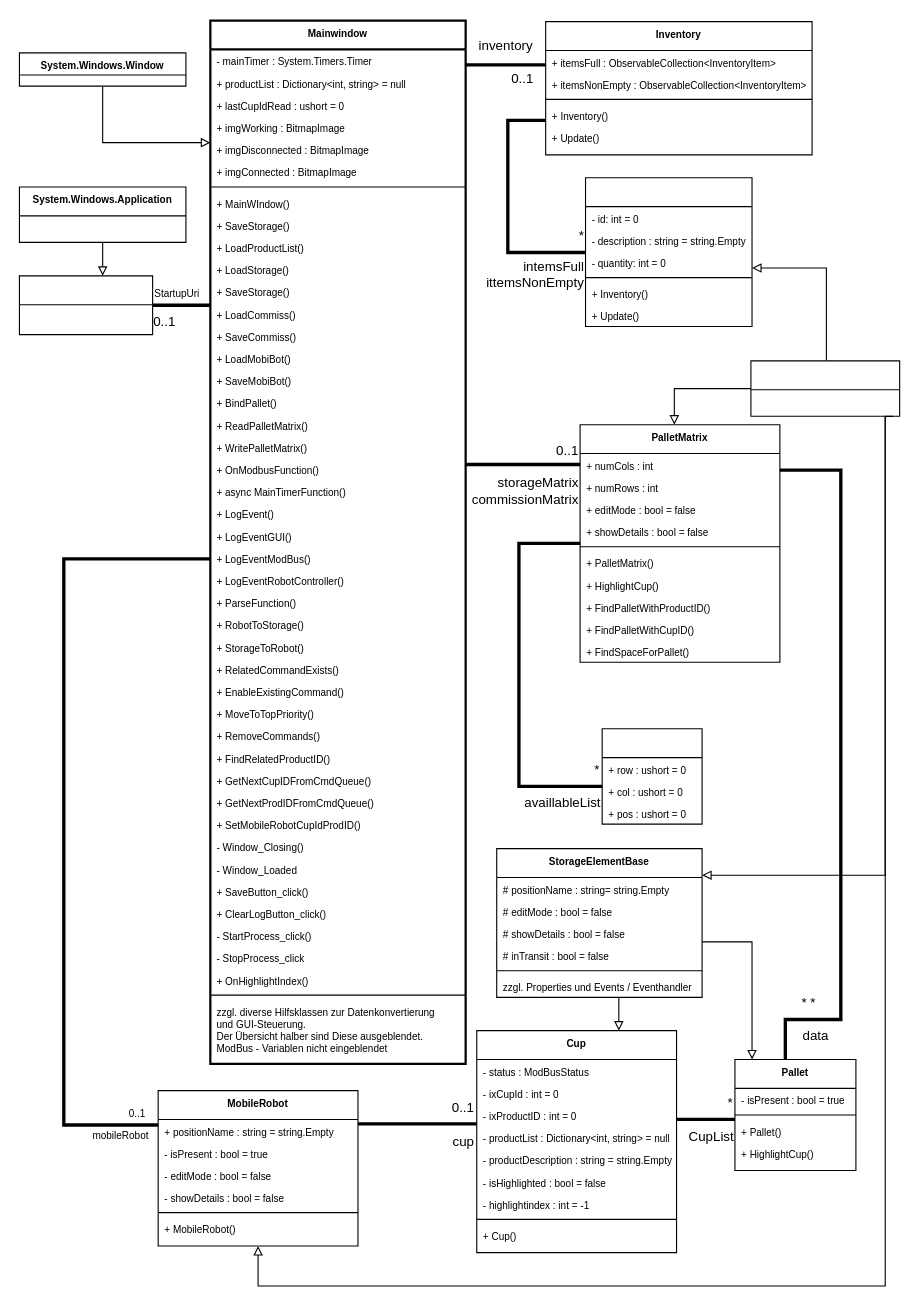
Some shapes in this 921 by 1314 pixel diagram are drawn without their labels. The box of each missing label's shape, as (x1, y1, x2, y2) in pixels:
App: (18, 275, 153, 335)
Coord: (601, 728, 702, 824)
INotifyPropertyChanged: (750, 360, 900, 416)
InventoryItem: (584, 177, 752, 326)
